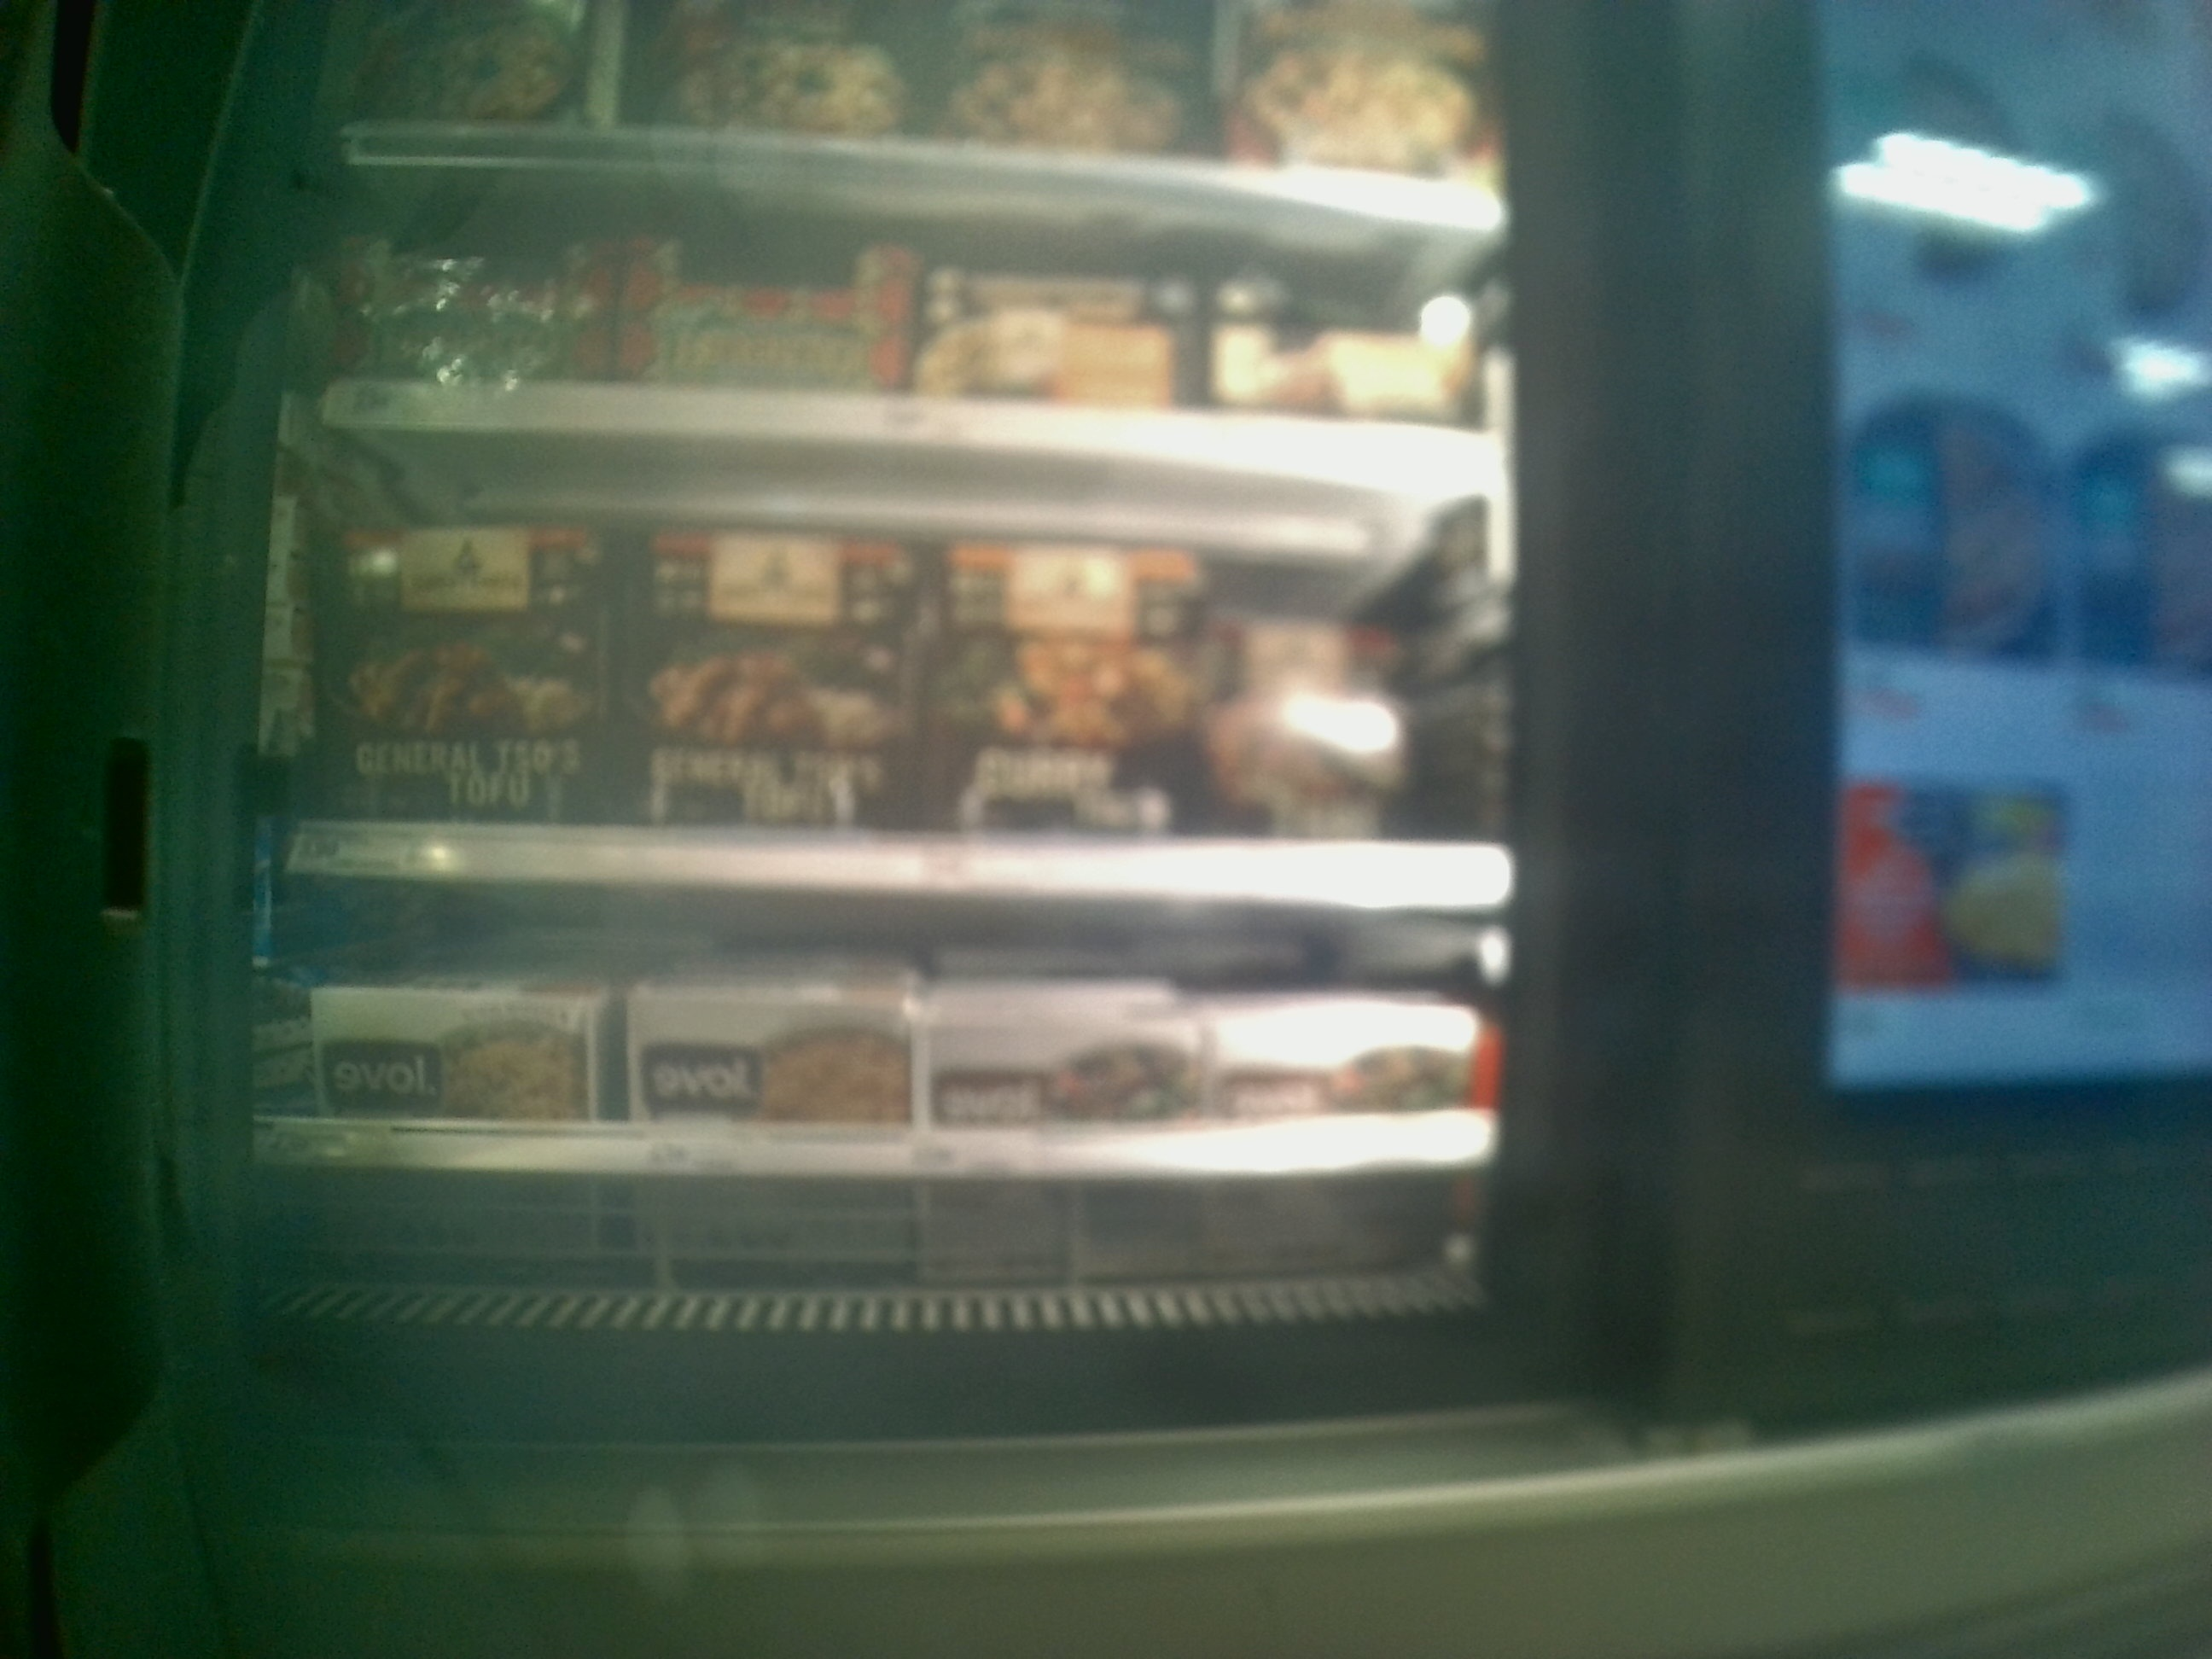shelf: (308, 422, 1514, 906), (282, 871, 1519, 1255)
